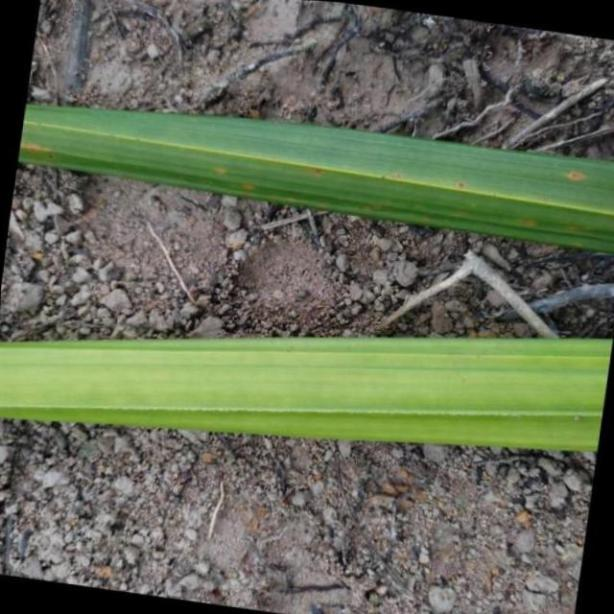nitrogen: (21, 96, 614, 253), (0, 331, 614, 454)
